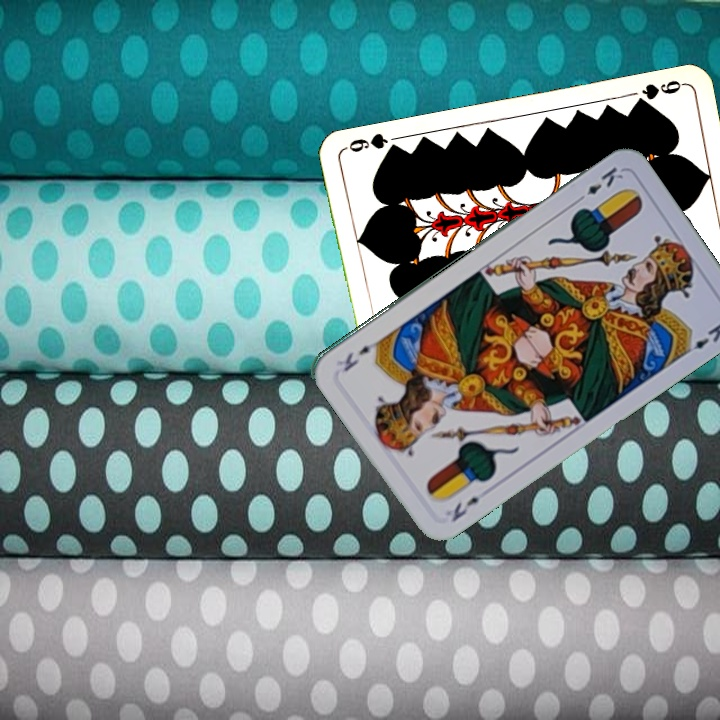EK: (571, 162, 626, 206), (447, 492, 482, 525)
G9: (630, 76, 686, 109)
